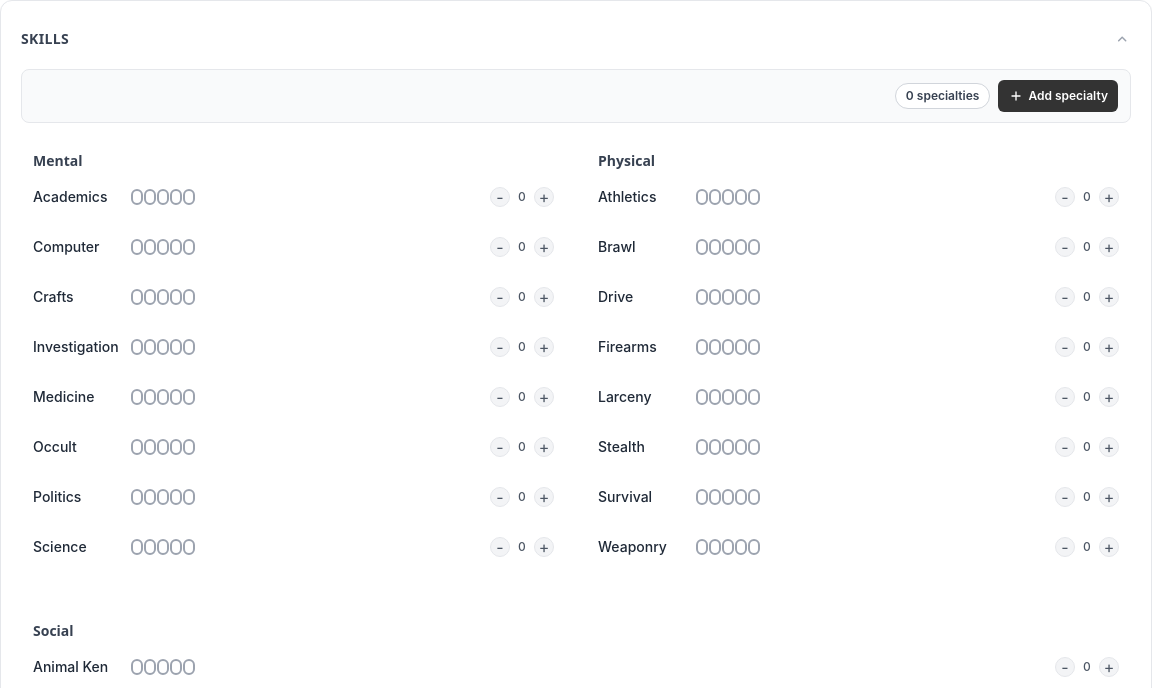
Test: skill specialties › adds a specialty to the Skill selected in the compact editor
Click the button "Add specialty": (1058,96) [998,80,1118,112]
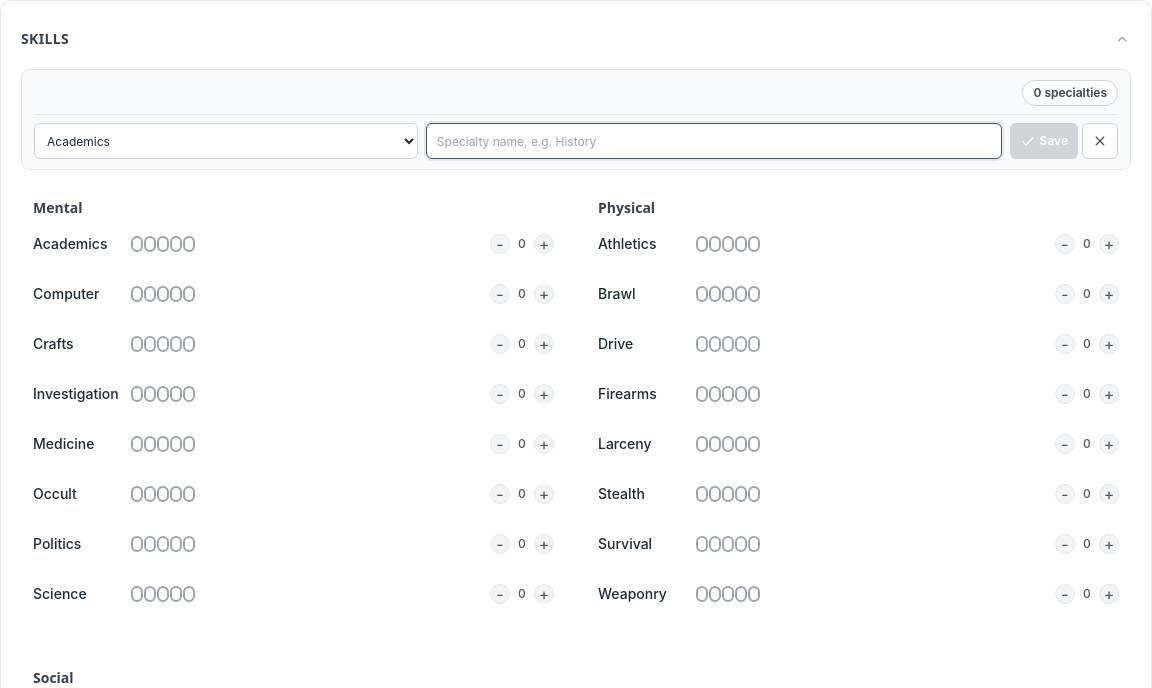
Select "Firearms" in the dropdown named "Skill for specialty": (226,141) [34,123,418,159]
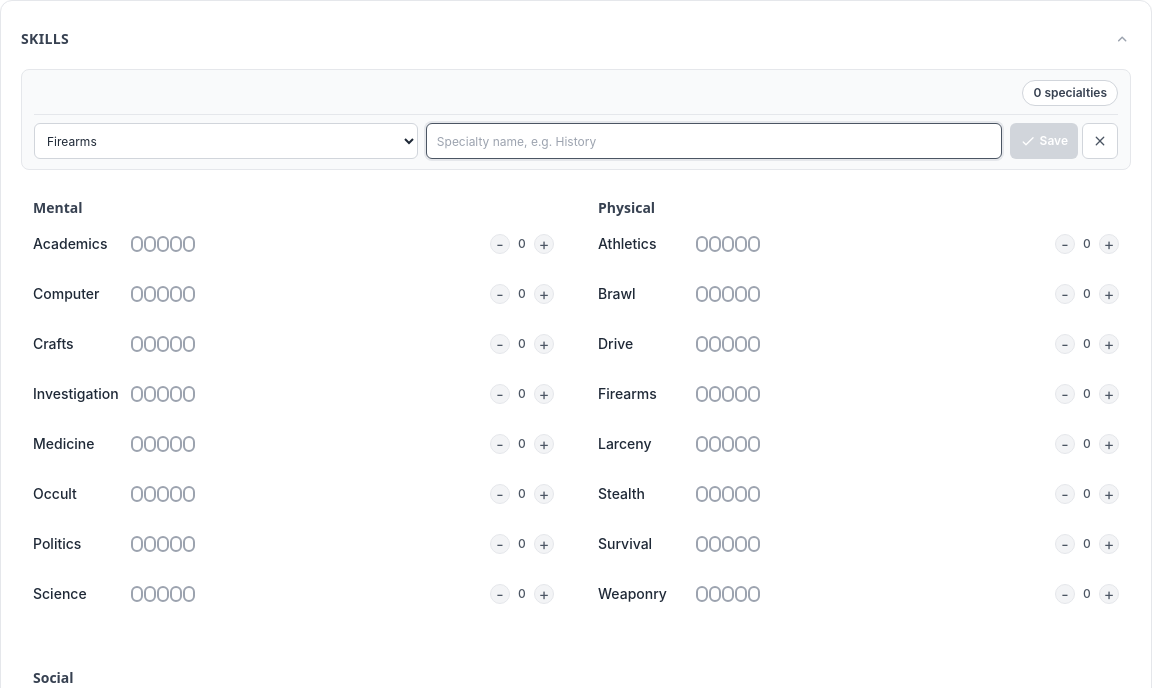
In the field labelled "Specialty name": (714,141) [426,123,1002,159], type "Pistols"
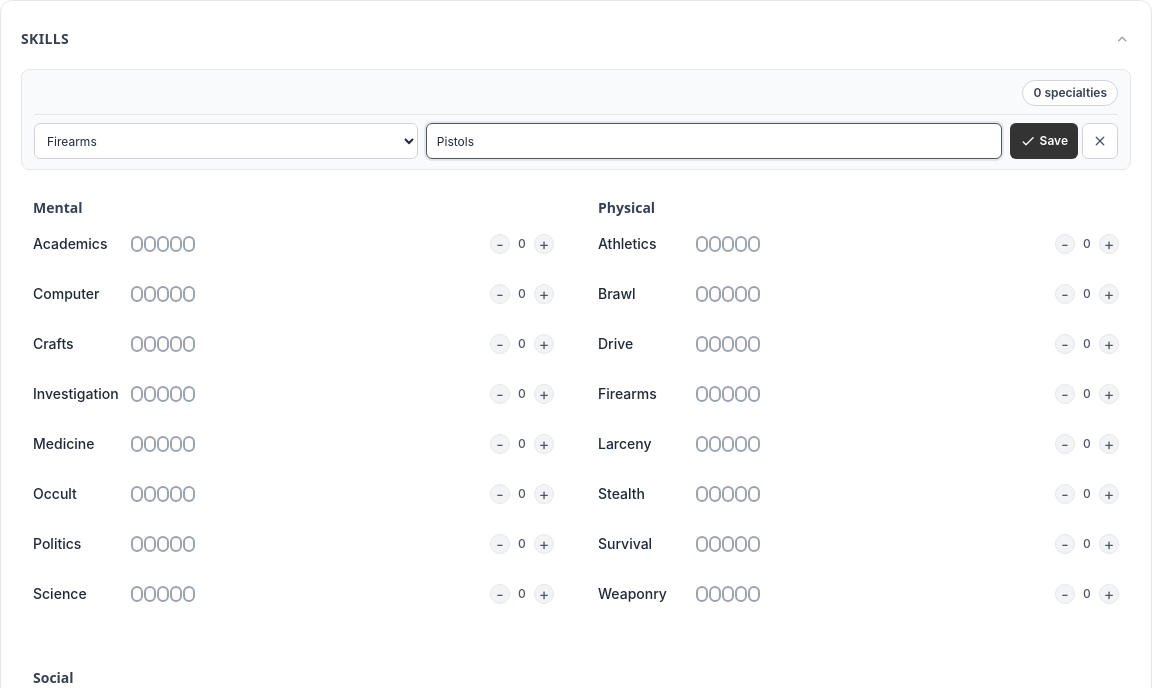
Click the button with aria-label "Save specialty": (1044,141) [1010,123,1078,159]
Wait 400 ms
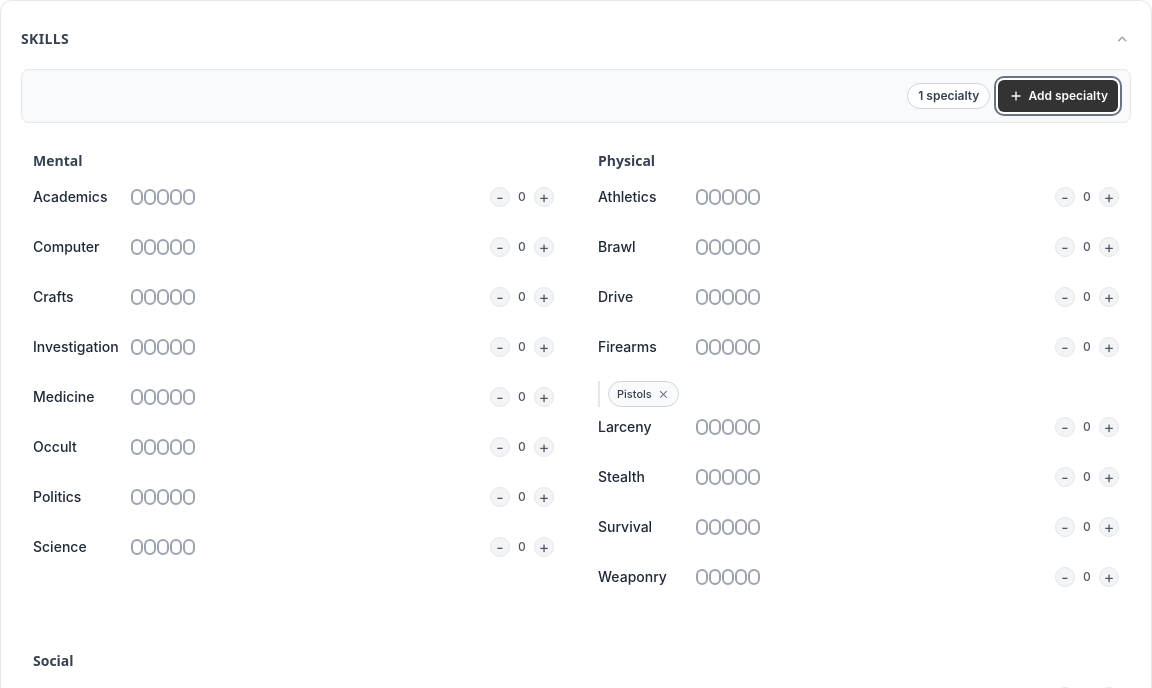
Expected: the text "Pistols" is shown, [617,386,652,402]
